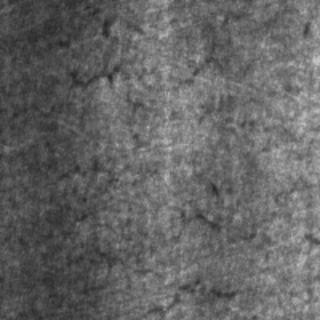crazing: (40, 197, 240, 315), (51, 10, 249, 88)
